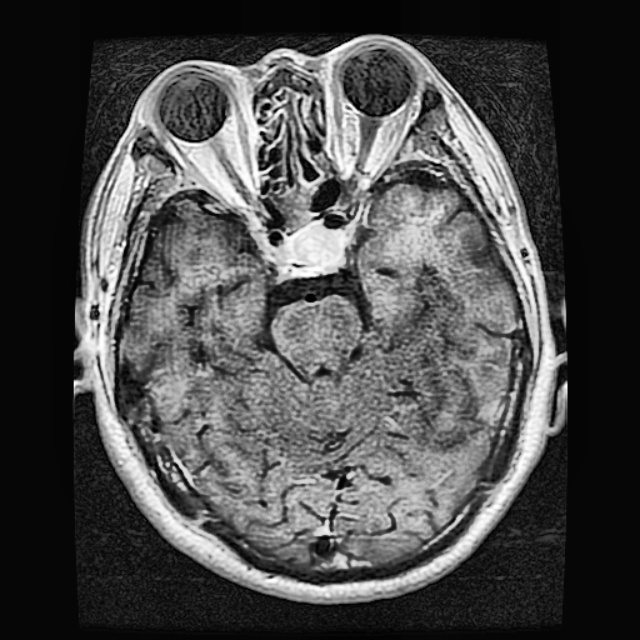Pituitary: (280, 222, 343, 262)
